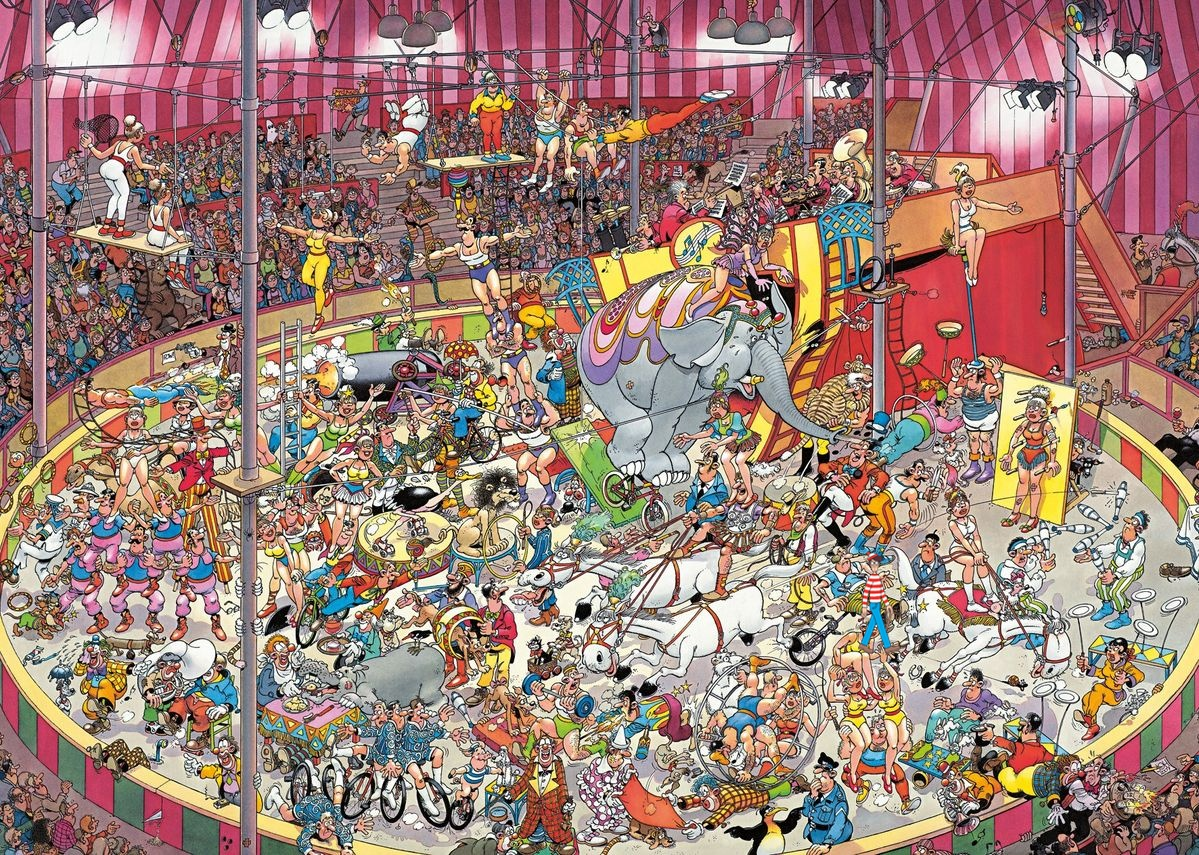waldo: (858, 551, 901, 654)
